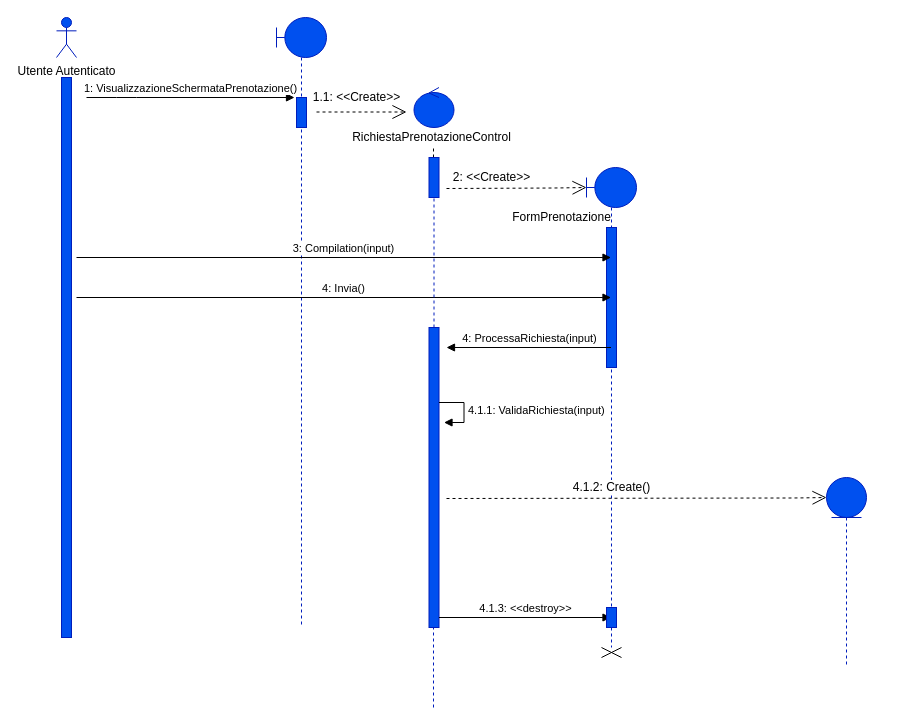
This 908x726 diagram has some shape labels left out. Here are the shapes that lost their labels. From the top down, the box of each, then its label:
(276, 16, 326, 628): RichiestaPrenotazioneView
(826, 476, 866, 668): Prenotazione
